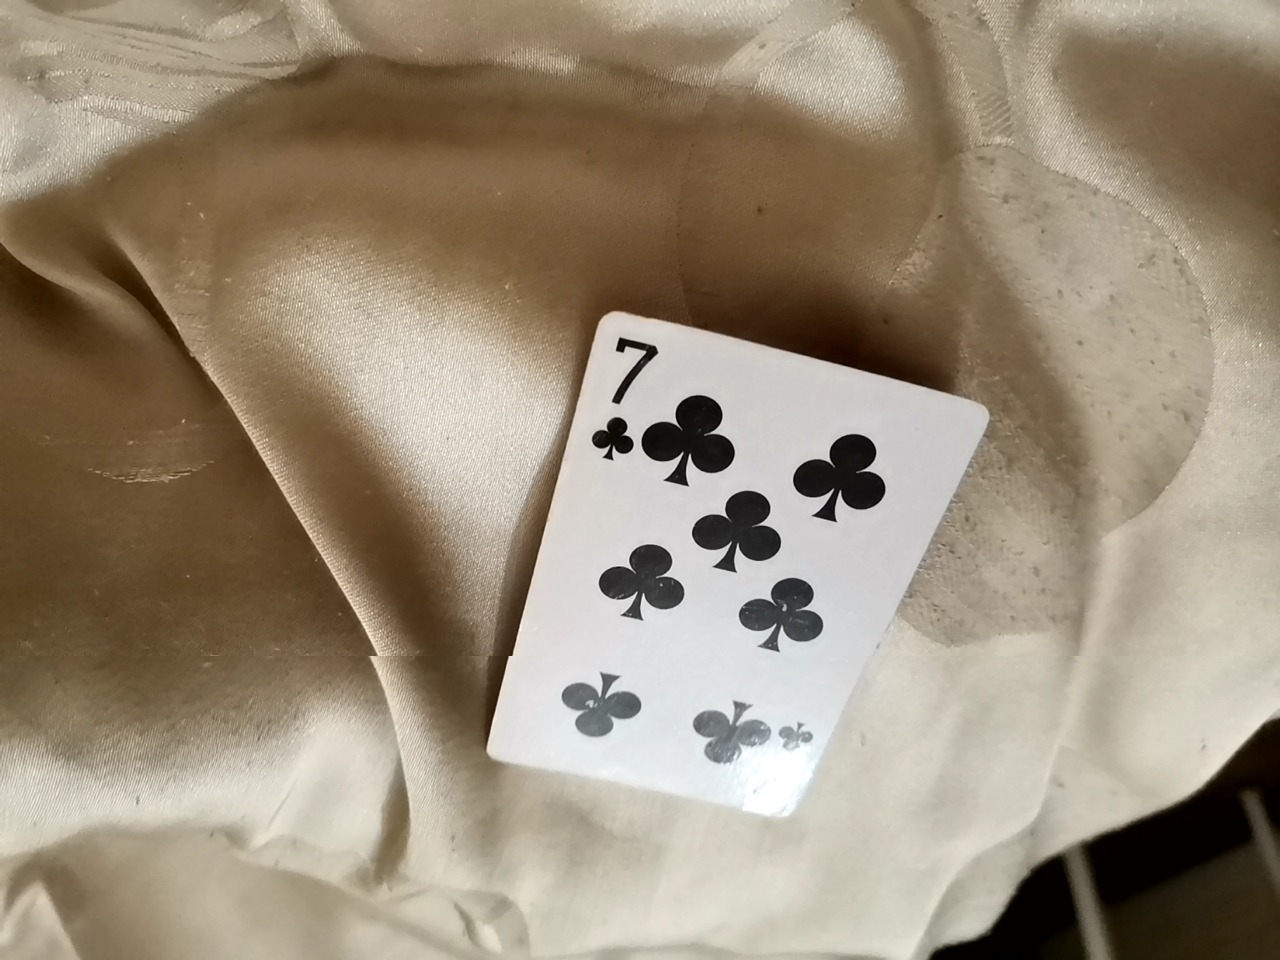mh 7: (495, 304, 959, 839)
